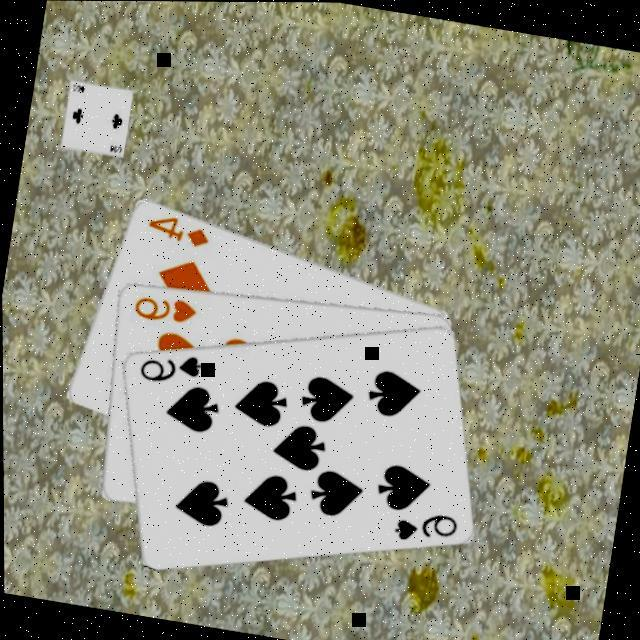4D: (142, 207, 214, 249)
9H: (128, 286, 200, 327)
9S: (132, 341, 205, 389), (387, 501, 460, 548)
